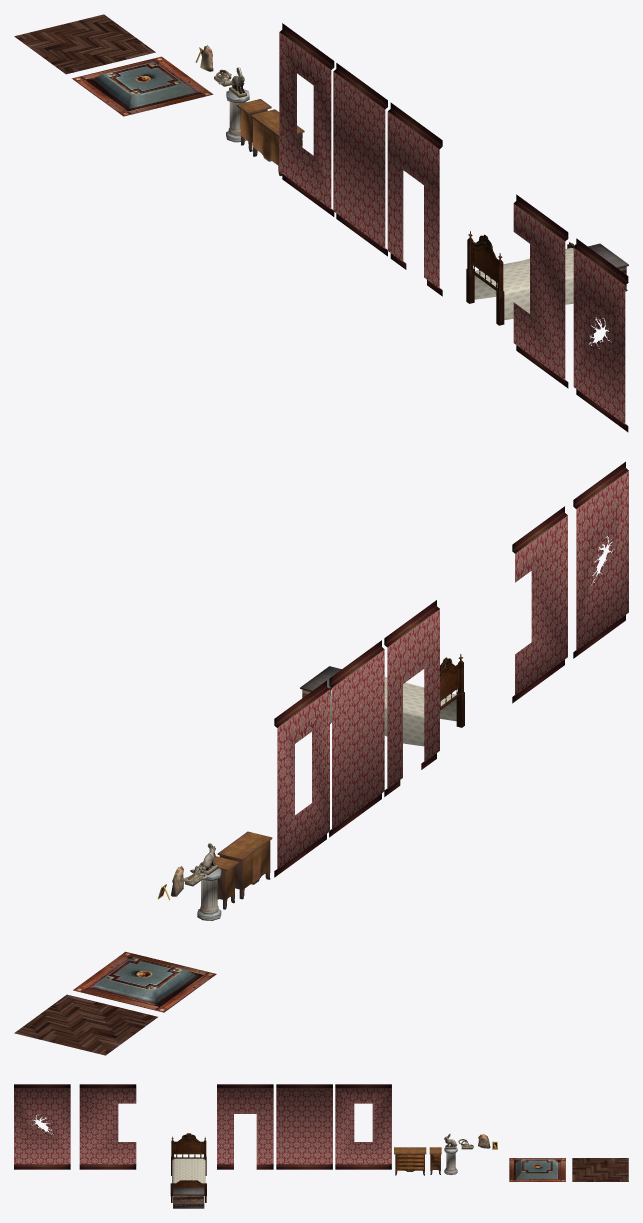
The model's file is QuartoIrmãoMaisVelho.fbx.
3 renders of one model, top to bottom at view 1: azimuth 30°, elevation 25°; view 2: azimuth 150°, elevation 25°; view 3: azimuth 270°, elevation 25°, orthographic. The views are drawn at different scales.
Visible parts, largest first — view 1: ParedeIrmaoMV, ParedeBuracoIrmaoMV, ParedeJanelaIrmaoMV, ParedeJanelaDuplaIrmaoMV, ParedePortaIrmaoMV, ChaoIrmaoMV, TetoIrmaoMV, CamaIrmaoMV, ComodaIrmaoMV, CriadoIrmaoMV, PilarEstatuas; view 2: ParedeIrmaoMV, ParedeBuracoIrmaoMV, ParedeJanelaDuplaIrmaoMV, ParedeJanelaIrmaoMV, ParedePortaIrmaoMV, TetoIrmaoMV, ChaoIrmaoMV, CamaIrmaoMV, ComodaIrmaoMV, PilarEstatuas; view 3: ParedeIrmaoMV, ParedeBuracoIrmaoMV, ParedeJanelaDuplaIrmaoMV, ParedeJanelaIrmaoMV, ParedePortaIrmaoMV, CamaIrmaoMV, ChaoIrmaoMV, TetoIrmaoMV, ComodaIrmaoMV, BauIrmaoMV, PilarEstatuas, CriadoIrmaoMV.
Boxes of the visible parts, x1,y1,x2,y2 form: ParedeIrmaoMV: [333, 63, 387, 256]; ParedeBuracoIrmaoMV: [573, 238, 628, 432]; ParedeJanelaIrmaoMV: [279, 23, 334, 216]; ParedeJanelaDuplaIrmaoMV: [513, 194, 568, 388]; ParedePortaIrmaoMV: [387, 102, 442, 296]; ChaoIrmaoMV: [14, 14, 155, 74]; TetoIrmaoMV: [72, 56, 213, 116]; CamaIrmaoMV: [466, 231, 576, 325]; ComodaIrmaoMV: [251, 109, 304, 175]; CriadoIrmaoMV: [236, 99, 271, 151]; PilarEstatuas: [226, 89, 249, 142]; ParedeIrmaoMV: [329, 640, 384, 837]; ParedeBuracoIrmaoMV: [573, 461, 628, 658]; ParedeJanelaDuplaIrmaoMV: [512, 506, 567, 703]; ParedeJanelaIrmaoMV: [274, 680, 329, 877]; ParedePortaIrmaoMV: [384, 600, 439, 796]; TetoIrmaoMV: [73, 951, 216, 1012]; ChaoIrmaoMV: [14, 994, 157, 1055]; CamaIrmaoMV: [328, 654, 464, 746]; ComodaIrmaoMV: [217, 831, 272, 899]; PilarEstatuas: [197, 868, 221, 920]; ParedeIrmaoMV: [276, 1084, 332, 1169]; ParedeBuracoIrmaoMV: [14, 1084, 70, 1169]; ParedeJanelaDuplaIrmaoMV: [79, 1084, 136, 1169]; ParedeJanelaIrmaoMV: [335, 1084, 391, 1169]; ParedePortaIrmaoMV: [217, 1084, 273, 1169]; CamaIrmaoMV: [170, 1133, 206, 1202]; ChaoIrmaoMV: [572, 1158, 628, 1181]; TetoIrmaoMV: [509, 1158, 565, 1181]; ComodaIrmaoMV: [394, 1147, 426, 1175]; BauIrmaoMV: [173, 1187, 204, 1208]; PilarEstatuas: [444, 1147, 457, 1174]; CriadoIrmaoMV: [429, 1147, 441, 1174].
Bounding box in the file's own units: 4.75 × 23.44 × 3.67.
